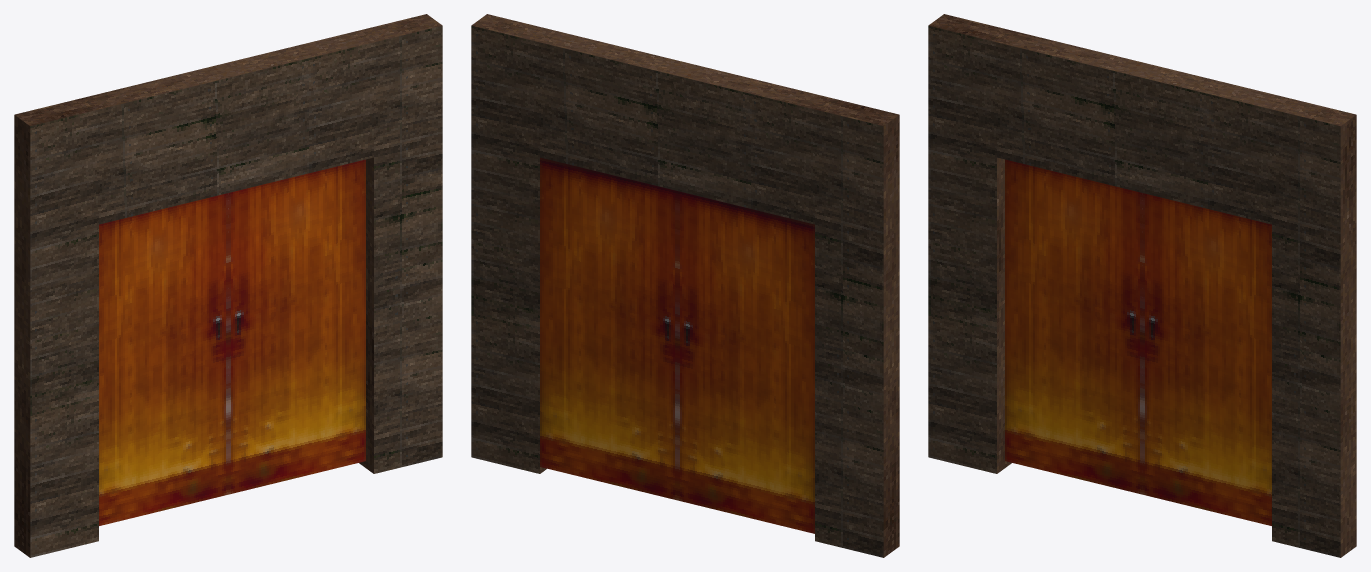
Rendered from door_double_08.glb.
3 views of the same model, side by side, from view 1: azimuth 30°, elevation 25°; view 2: azimuth 150°, elevation 25°; view 3: azimuth 330°, elevation 25° (orthographic).
Parts seen in each view (by area): view 1: door_double_082, door_08_003, door_08_001; view 2: door_double_082, door_08_001, door_08_003; view 3: door_double_082, door_08_001, door_08_003.
Boxes of the visible parts, bbox=[...] form: door_double_082: bbox=[14, 14, 442, 557]; door_08_003: bbox=[228, 159, 365, 494]; door_08_001: bbox=[99, 193, 228, 525]; door_double_082: bbox=[471, 14, 899, 557]; door_08_001: bbox=[677, 191, 814, 533]; door_08_003: bbox=[540, 157, 677, 500]; door_double_082: bbox=[928, 14, 1356, 557]; door_08_001: bbox=[1005, 159, 1142, 494]; door_08_003: bbox=[1142, 193, 1271, 525].
Size of the model in its own units: 3 by 3 by 0.2.
Materials: 3 (3 with a texture image).
